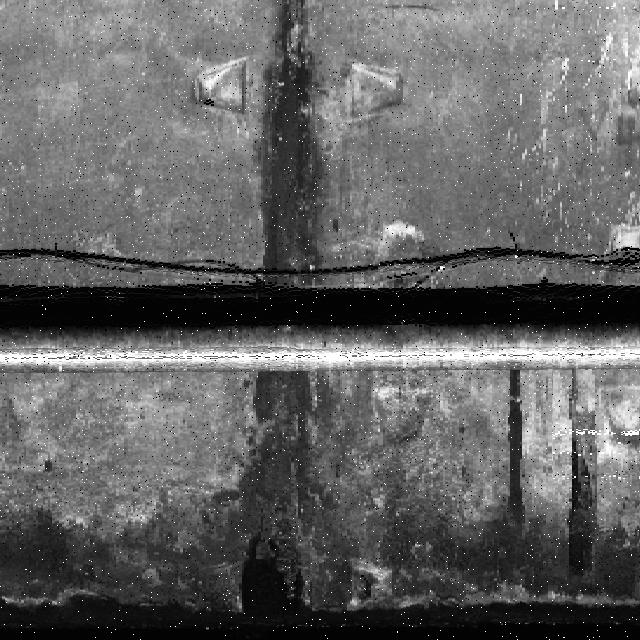leakage: (217, 374, 381, 640), (6, 490, 212, 640), (262, 1, 335, 293), (388, 596, 640, 640), (564, 415, 610, 581), (495, 369, 530, 538)
